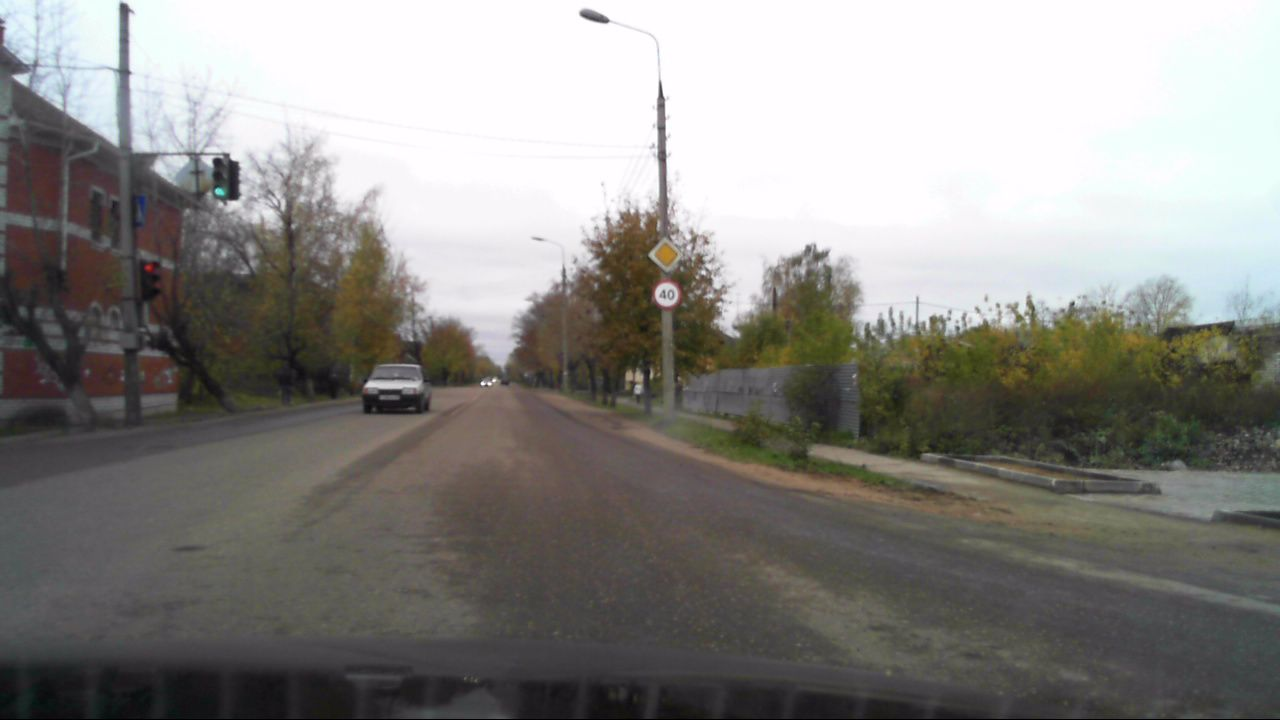speed_warning_40: (653, 280, 682, 309)
